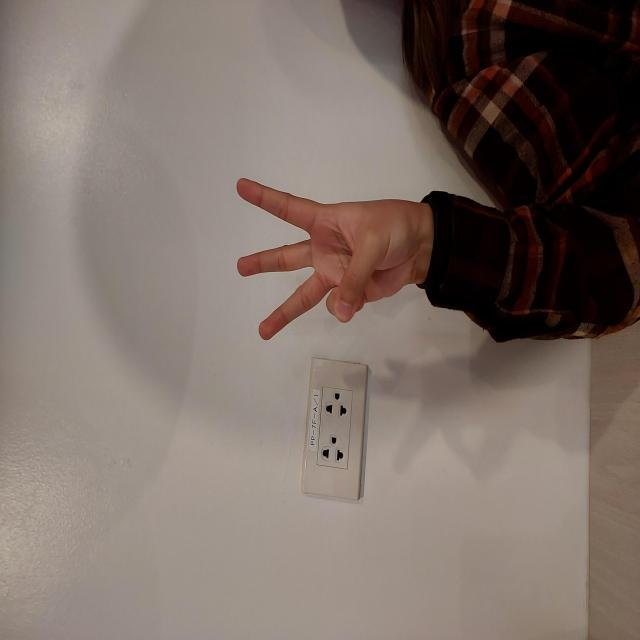W: (298, 232, 465, 423)
